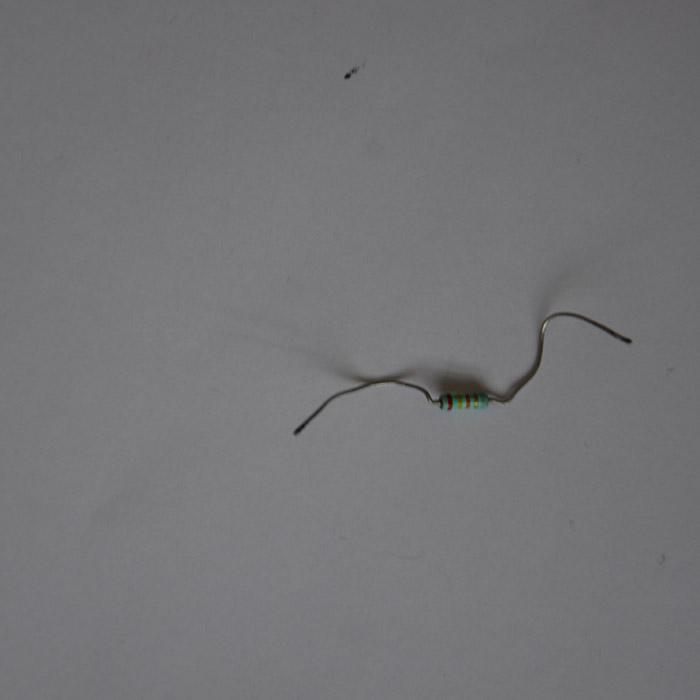resistor: (438, 392, 490, 411)
